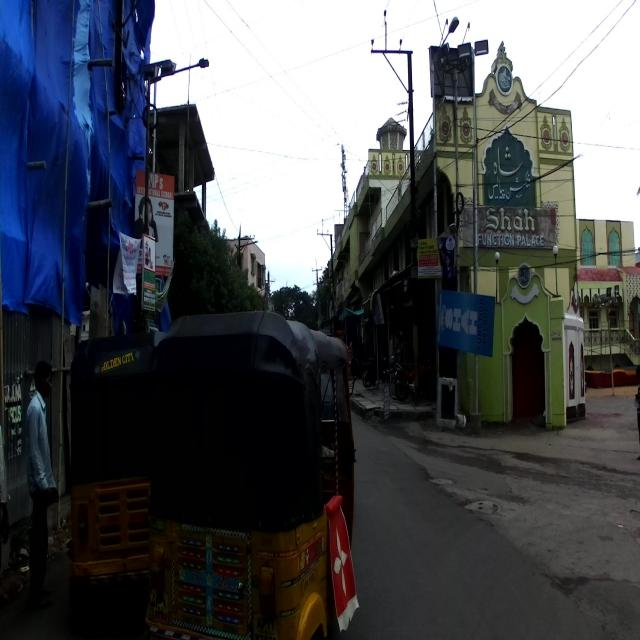autorickshaw: (144, 310, 360, 639), (65, 331, 168, 629)
